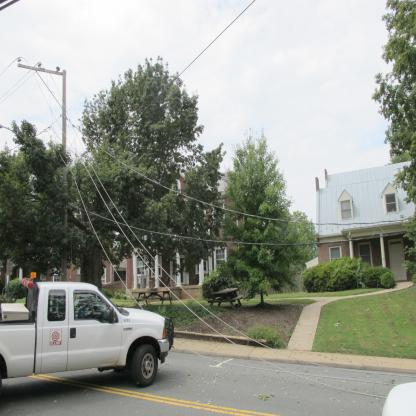Car: (382, 380, 415, 415)
Truck: (0, 284, 173, 397)
